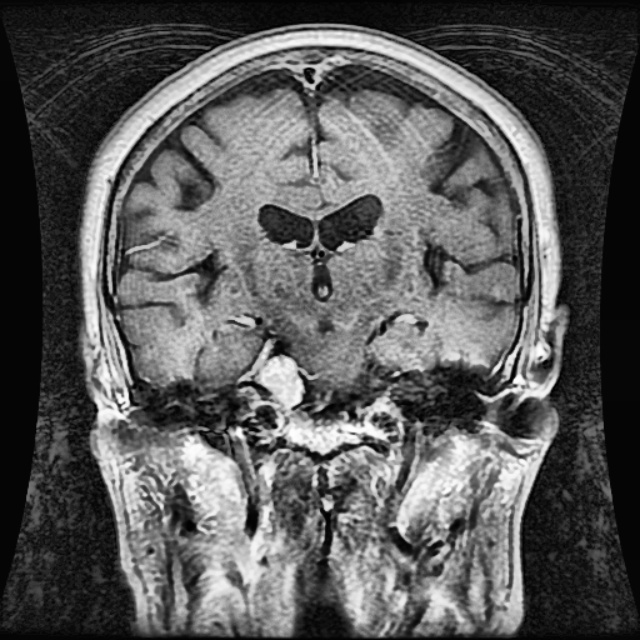Glioma: (258, 354, 303, 405)
